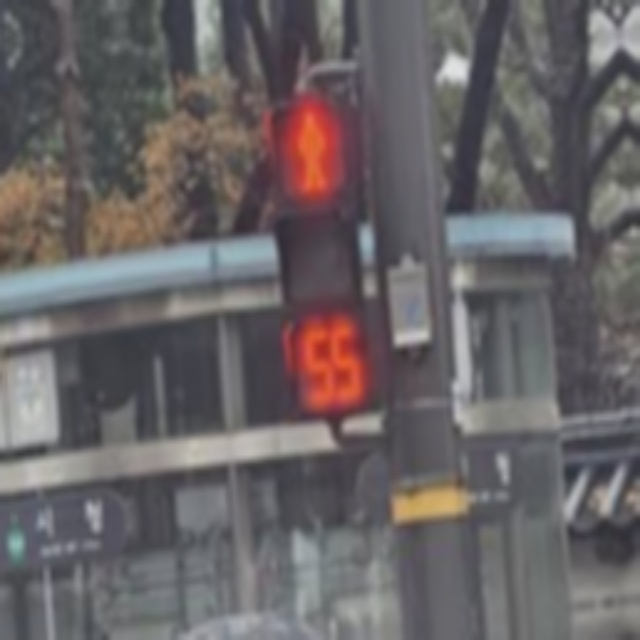red_light: (269, 99, 348, 208), (285, 311, 369, 413)
